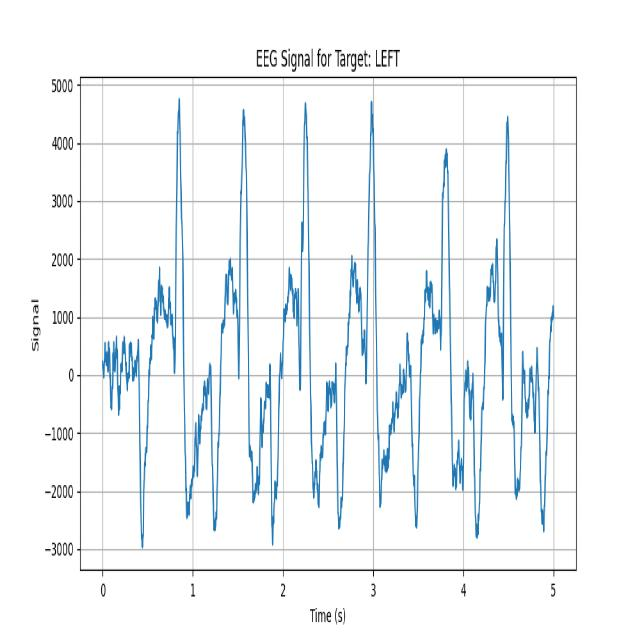LEFT: (127, 96, 206, 558), (331, 92, 399, 548), (400, 89, 467, 548), (466, 87, 532, 551), (267, 94, 333, 556), (204, 94, 268, 554)
